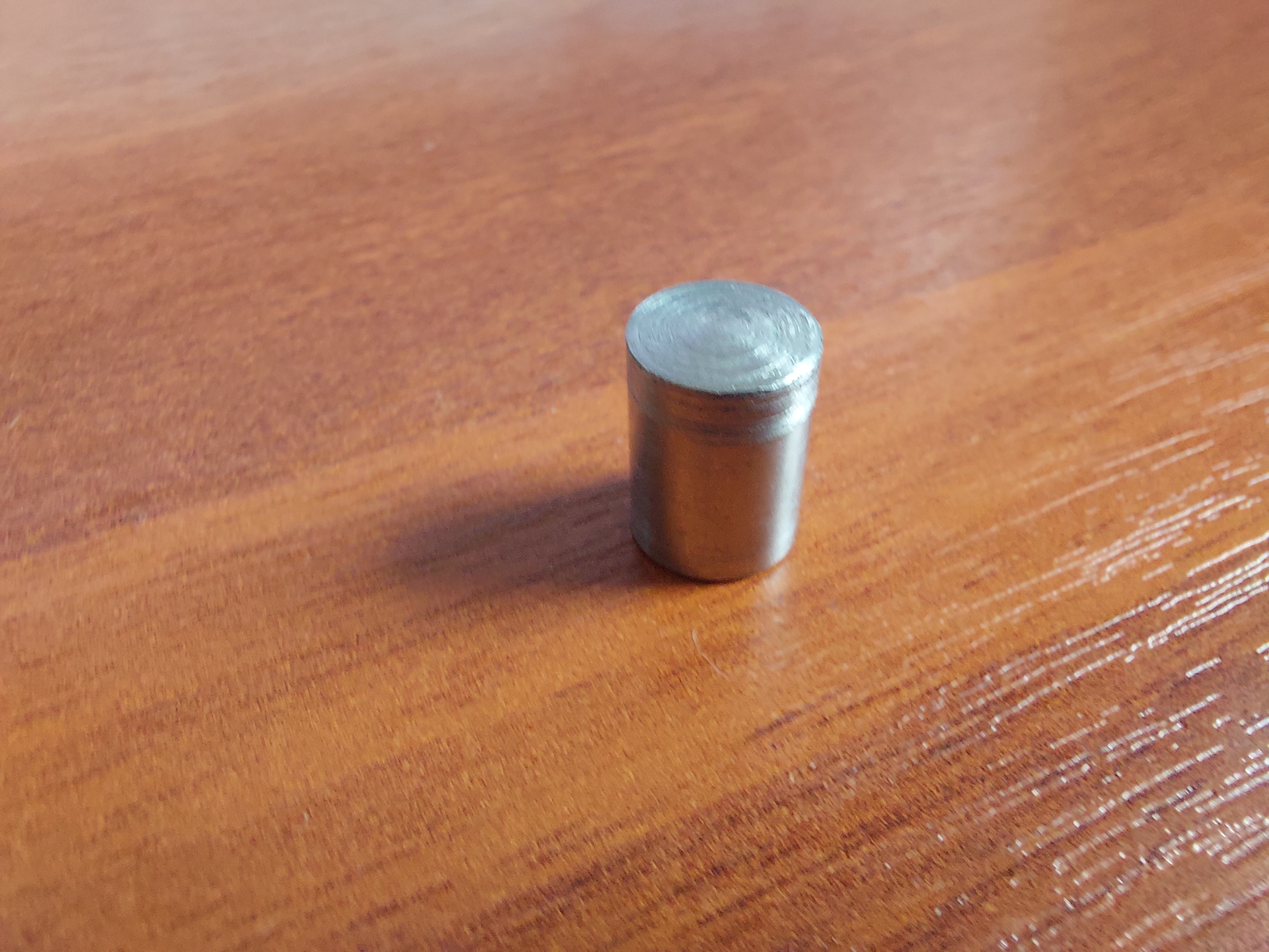tablet: (585, 263, 850, 592)
